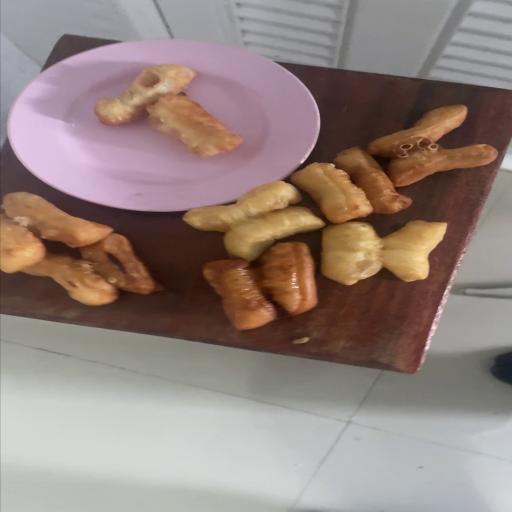street_burnt_defect: (204, 244, 318, 329)
street_golden_good: (184, 182, 324, 258)
